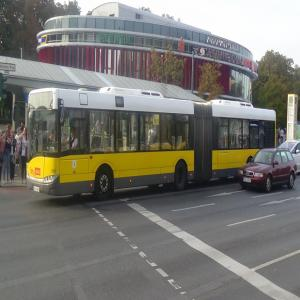Vehicle-registration-plate: (243, 175, 252, 184), (34, 187, 41, 193)
